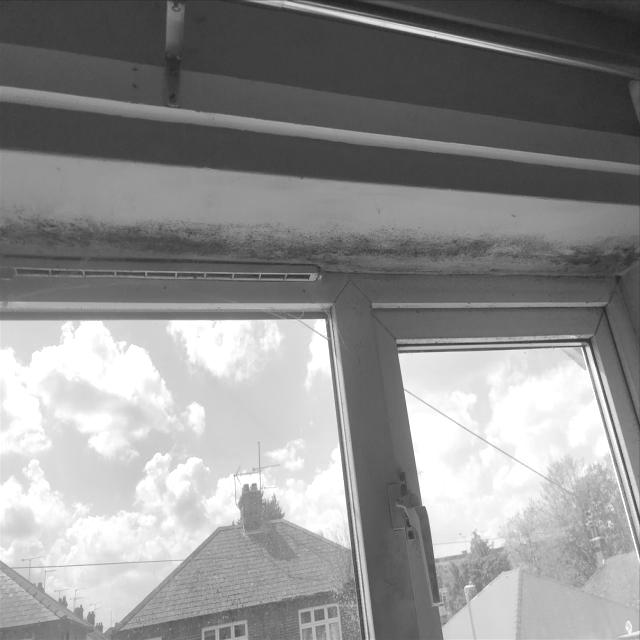stain marks: (0, 206, 640, 291)
